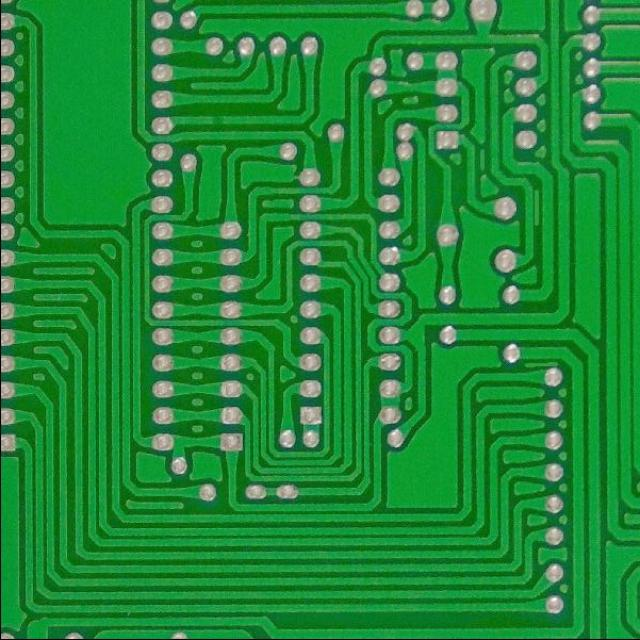spurious_copper: (526, 187, 546, 229), (476, 146, 489, 173)
